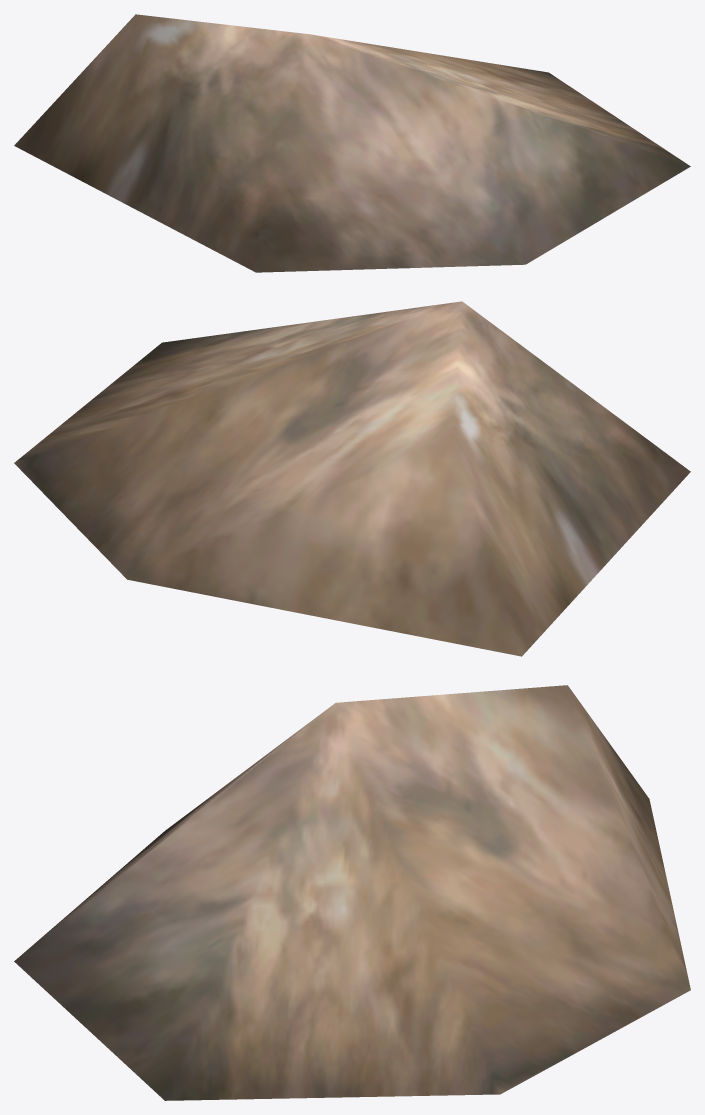
File: elwynnrock2.glb
3 views of the same model, one above another, from view 1: azimuth 30°, elevation 25°; view 2: azimuth 150°, elevation 25°; view 3: azimuth 270°, elevation 25° (orthographic). The views are drawn at different scales.
Size of the model in its own units: 0.4709 by 0.1478 by 0.4463.
Materials: 1 (1 with a texture image).
